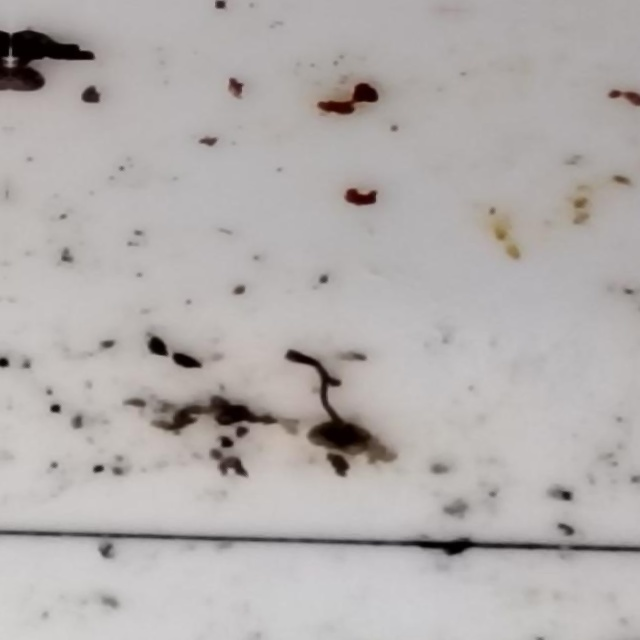varroa: (302, 417, 370, 452), (10, 64, 48, 93)
